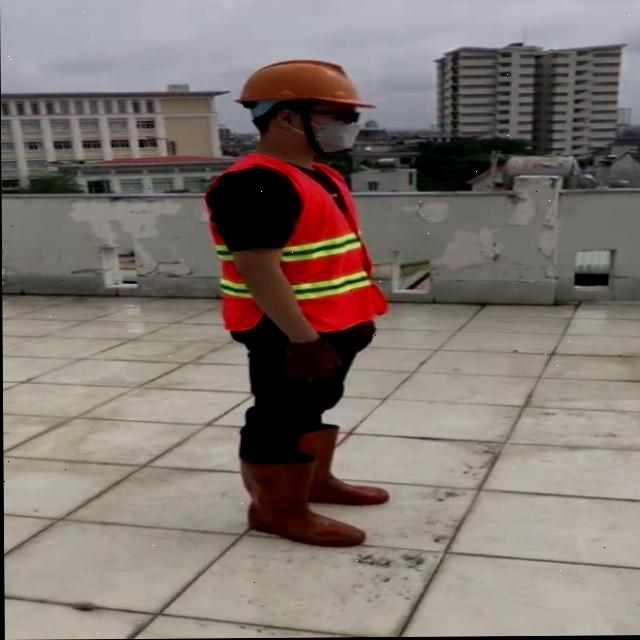Gloves: (282, 336, 343, 384)
Helmet: (234, 59, 378, 119)
Safety-Boot: (296, 423, 390, 506)
Safety-Vest: (204, 150, 389, 336)
